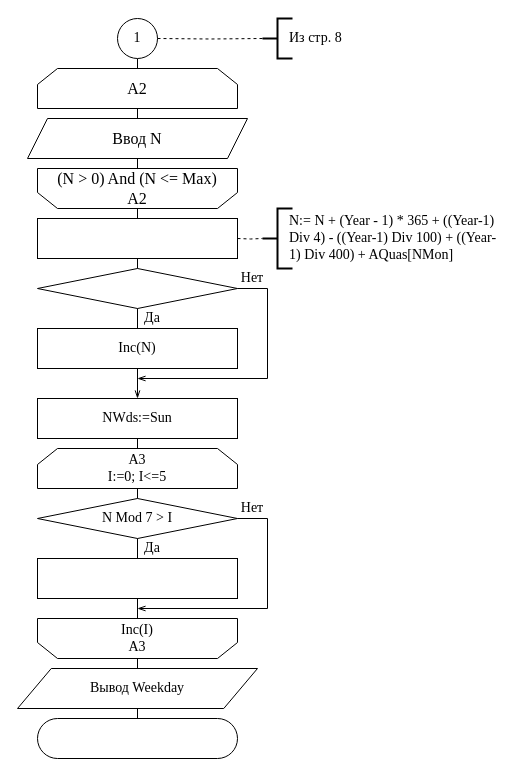
Image size: 515x776. Some labels were removed from this diagram. Here are the shapes that lost their labels. From the top down, the centre of each, then its label:
[137,288]: Flag and (NMon>Feb)
[137,578]: Inc(NWds)
[137,738]: Выход
